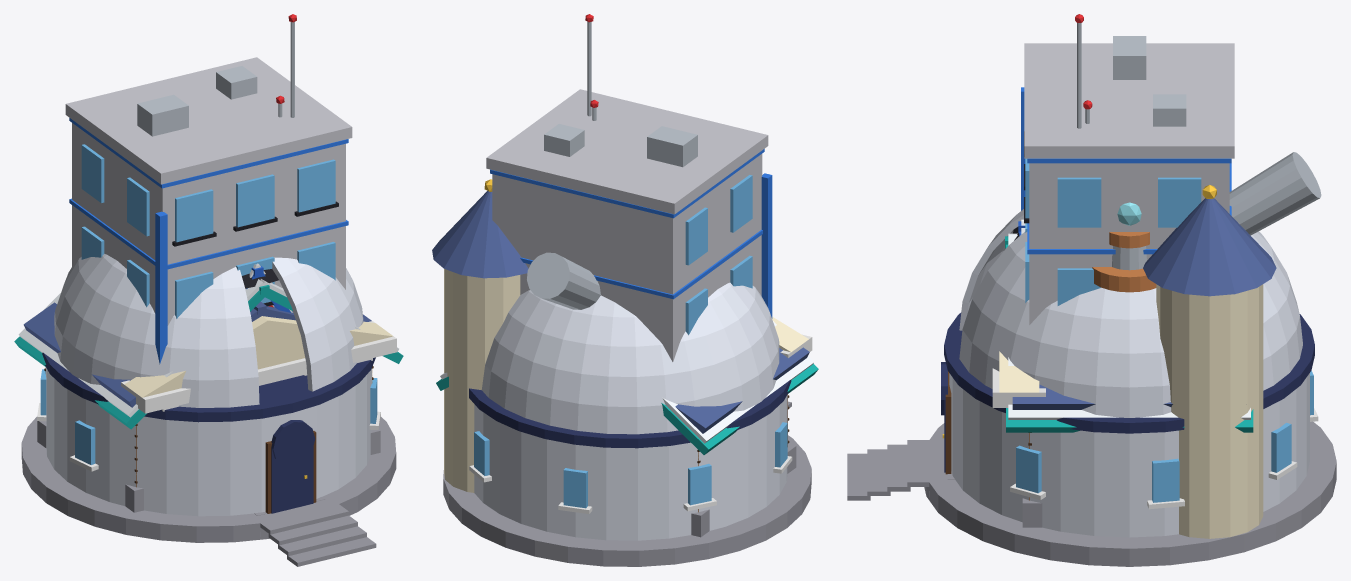
The model's file is towns2.glb.
3 renders of one model, left to right at view 1: azimuth 30°, elevation 25°; view 2: azimuth 150°, elevation 25°; view 3: azimuth 270°, elevation 25°, orthographic. The views are drawn at different scales.
Parts seen in each view (by area): view 1: SF_Observatory, VS_Block_B, SF_Archive, FL_Lodge; view 2: SF_Observatory, VS_Block_B, SF_Archive, FL_Lodge; view 3: SF_Observatory, VS_Block_B, SF_Archive, VS_Station, FL_Lodge.
Part boxes in pixels (x1=…): SF_Observatory: x1=21, y1=254, x2=396, y2=566; VS_Block_B: x1=65, y1=14, x2=352, y2=364; SF_Archive: x1=22, y1=301, x2=396, y2=536; FL_Lodge: x1=14, y1=279, x2=403, y2=515; SF_Observatory: x1=443, y1=252, x2=811, y2=566; VS_Block_B: x1=486, y1=14, x2=772, y2=361; SF_Archive: x1=432, y1=179, x2=812, y2=542; FL_Lodge: x1=436, y1=321, x2=818, y2=537; SF_Observatory: x1=847, y1=152, x2=1336, y2=566; VS_Block_B: x1=1021, y1=14, x2=1234, y2=324; SF_Archive: x1=929, y1=185, x2=1276, y2=538; VS_Station: x1=1092, y1=202, x2=1156, y2=292; FL_Lodge: x1=947, y1=233, x2=1253, y2=527.
Size of the model in its own units: 12.4 by 16.86 by 14.65.
1 material, 1 textured.
